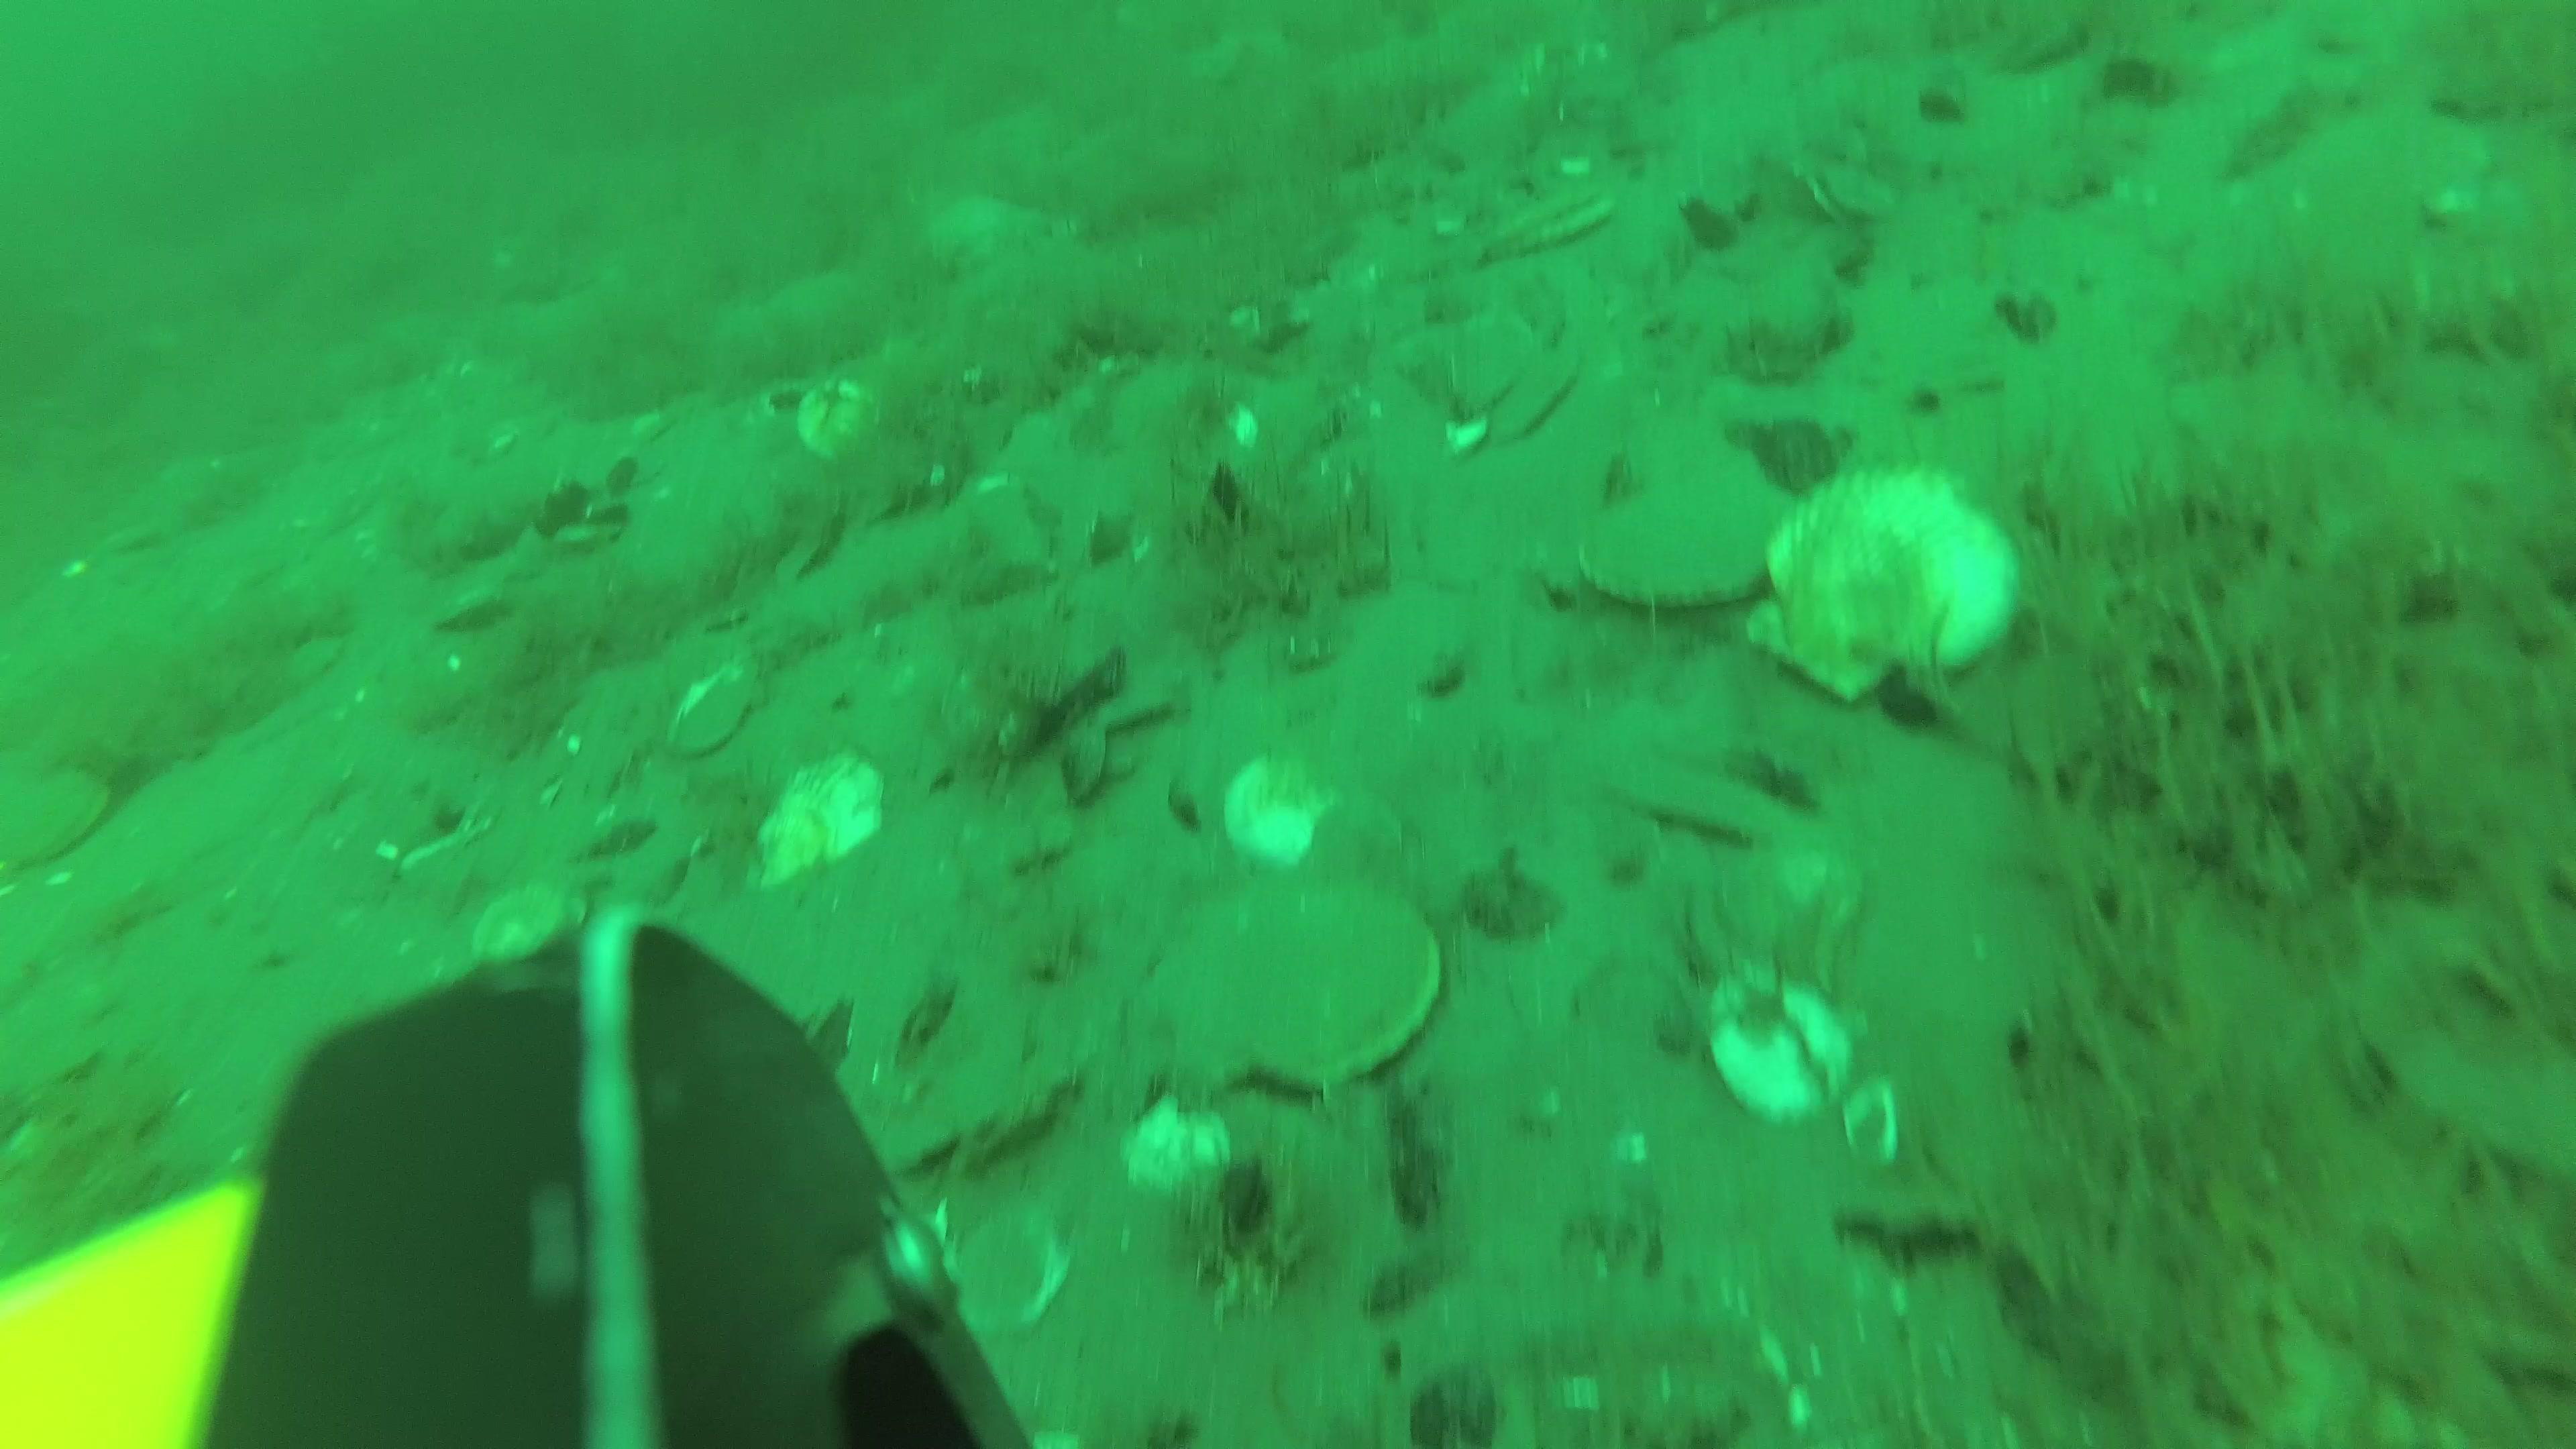scallop: (1150, 881, 1426, 1097), (1755, 464, 1996, 694), (1571, 488, 1803, 598), (1700, 980, 1854, 1118), (755, 755, 878, 888), (4, 759, 113, 874), (1224, 752, 1334, 865), (464, 881, 591, 959), (1483, 338, 1571, 446), (669, 651, 761, 752), (1481, 180, 1619, 248), (1309, 789, 1398, 885), (1451, 303, 1527, 409), (801, 372, 885, 465)
starfish: (918, 195, 1049, 271), (1185, 23, 1286, 94)
